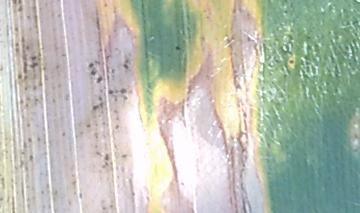tarspot: (119, 83, 132, 97), (287, 54, 297, 68), (90, 103, 100, 114), (28, 60, 38, 71), (172, 44, 185, 52), (96, 76, 105, 87), (107, 85, 114, 98), (121, 62, 131, 71), (89, 70, 98, 79), (87, 61, 96, 69), (30, 53, 37, 61)
